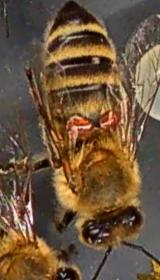varroa_mite: (63, 110, 94, 142), (96, 105, 124, 132)
